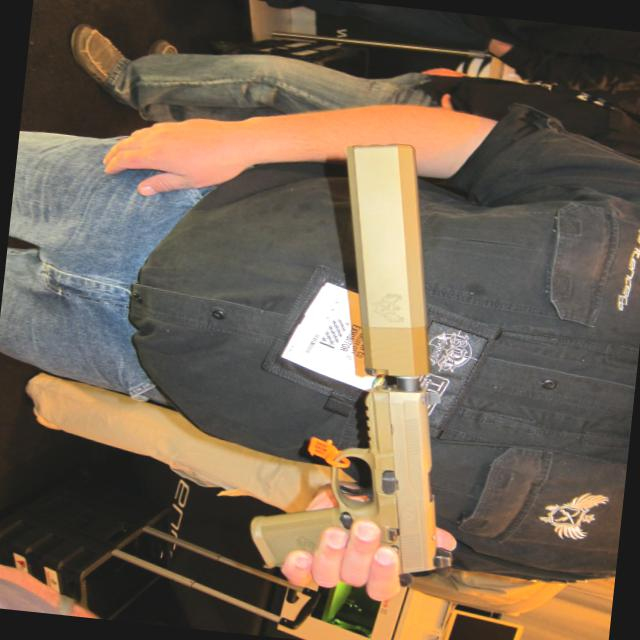handgun: (236, 360, 487, 598)
